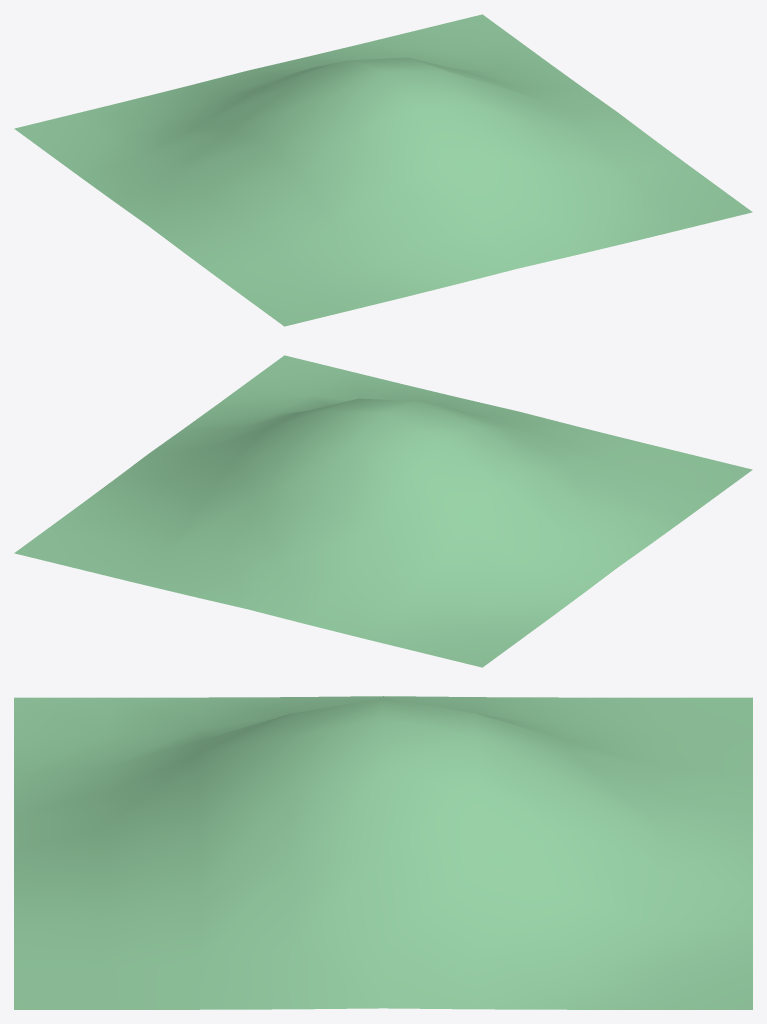
File: SM_LeafPile_AJ.fbx
The picture shows the model from 3 angles, top to bottom: view 1: azimuth 30°, elevation 25°; view 2: azimuth 150°, elevation 25°; view 3: azimuth 270°, elevation 25°; orthographic projection. The views are drawn at different scales.
Parts seen in each view (by area): view 1: pPlane1; view 2: pPlane1; view 3: pPlane1.
Part boxes in pixels (x1,y1,x2,y2): pPlane1: (14, 14, 752, 326); pPlane1: (14, 355, 752, 667); pPlane1: (14, 696, 752, 1009).
Size of the model in its own units: 100 by 20 by 100.
